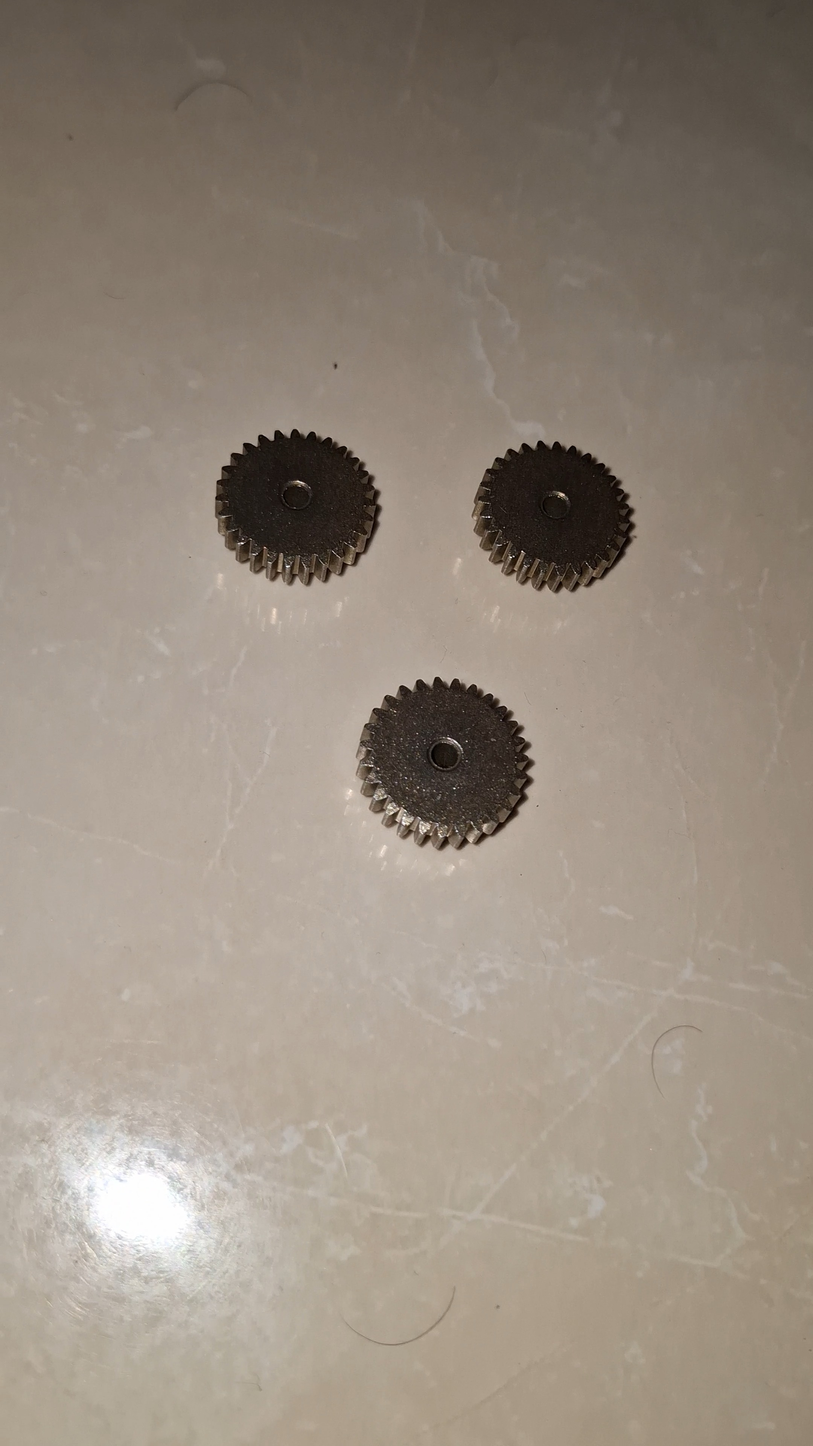spur gear: (357, 678, 527, 847), (216, 429, 375, 583), (473, 441, 629, 590)
